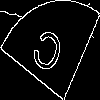C: (25, 25, 67, 84)
